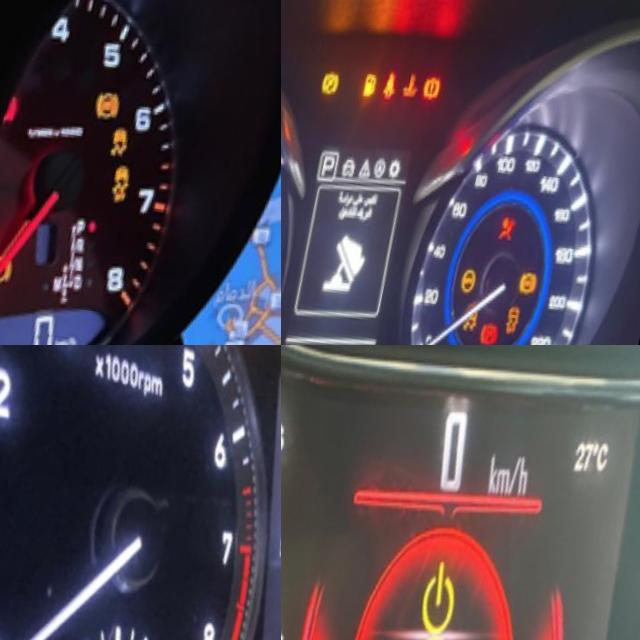High Engine Coolant Temperature: (407, 58, 430, 92)
Seat Belt: (387, 57, 408, 91)
